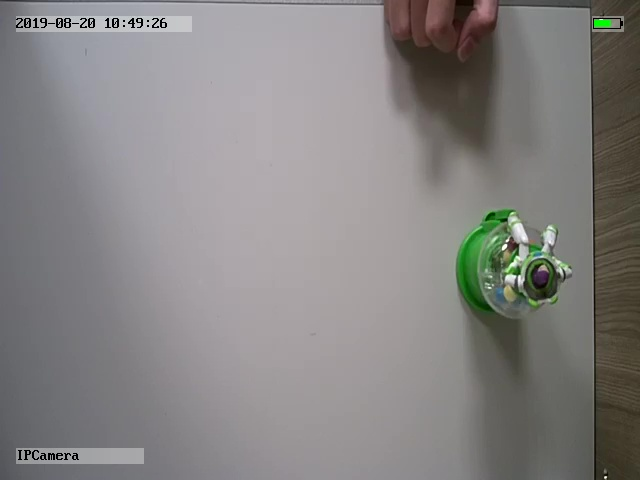buzz: (455, 208, 573, 325)
